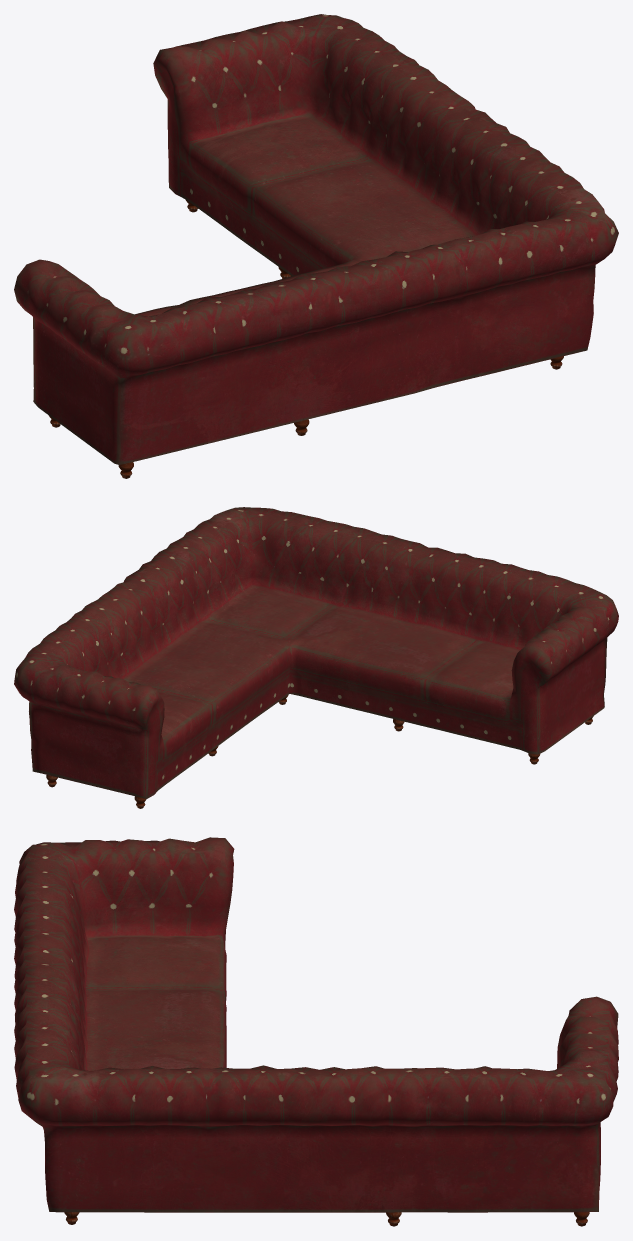
Rendered from Prop_LeatherSeat_L.fbx.
The picture shows the model from 3 angles, top to bottom: view 1: azimuth 30°, elevation 25°; view 2: azimuth 150°, elevation 25°; view 3: azimuth 270°, elevation 25°; orthographic projection. The views are drawn at different scales.
Visible parts, largest first — view 1: Prop_LeatherSeat_L; view 2: Prop_LeatherSeat_L; view 3: Prop_LeatherSeat_L.
Boxes of the visible parts, x1,y1,x2,y2 form: Prop_LeatherSeat_L: (14,14,618,478); Prop_LeatherSeat_L: (14,507,618,808); Prop_LeatherSeat_L: (14,837,618,1226).
Size of the model in its own units: 153 by 46.8 by 153.
